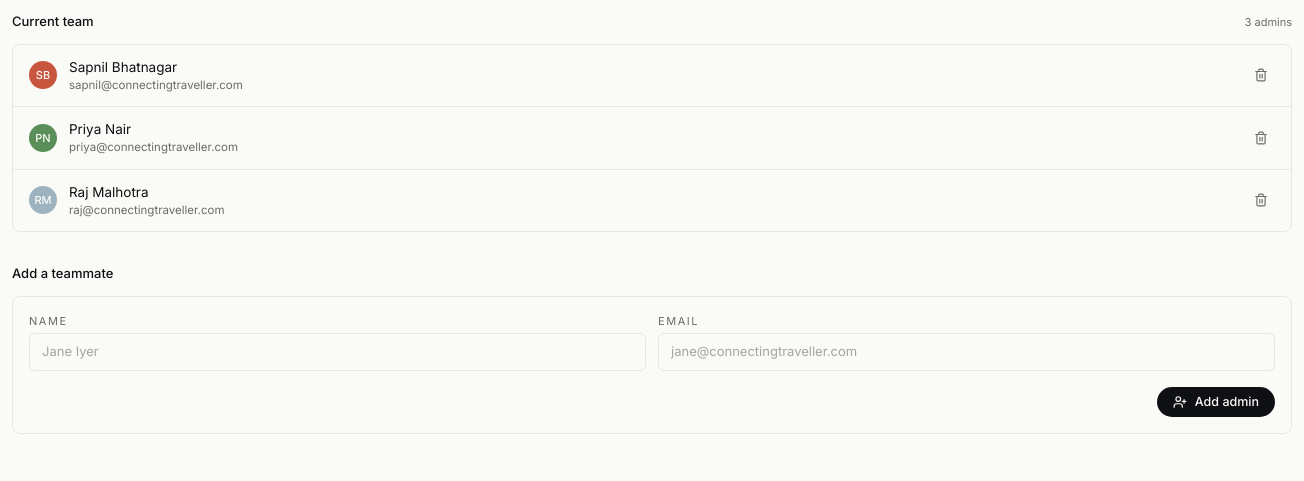
Test: AdminsPanel › validates the email field
Expected: the list item with test id "admin-row-admin_sapnil" is shown, [13,44,1291,107]
Type "Test User" into the field with test id "admin-input-name". click: (338, 352)
box: [29,333,646,370]
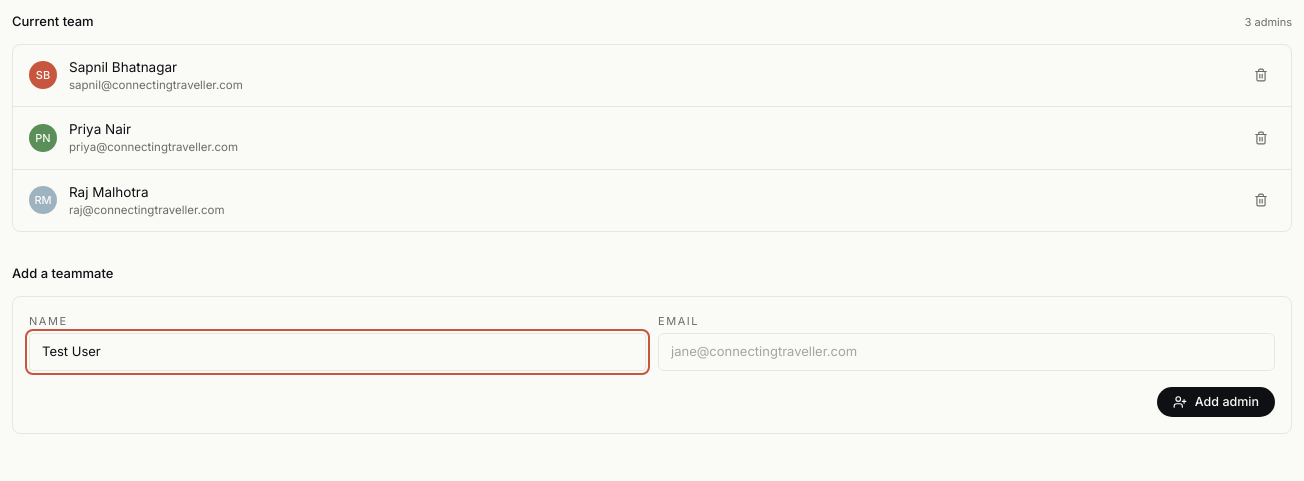
Type "not-an-email" into the field with test id "admin-input-email". click: (966, 352)
box: [658,333,1275,370]
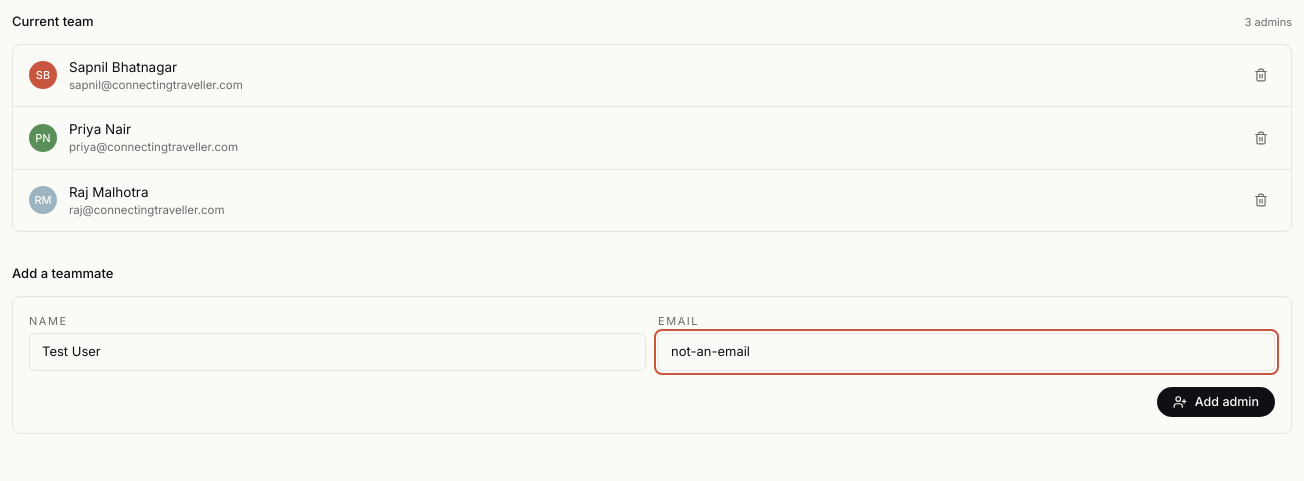
Click the button with test id "admin-submit". click: (1216, 402)
box: [1157,386,1275,417]
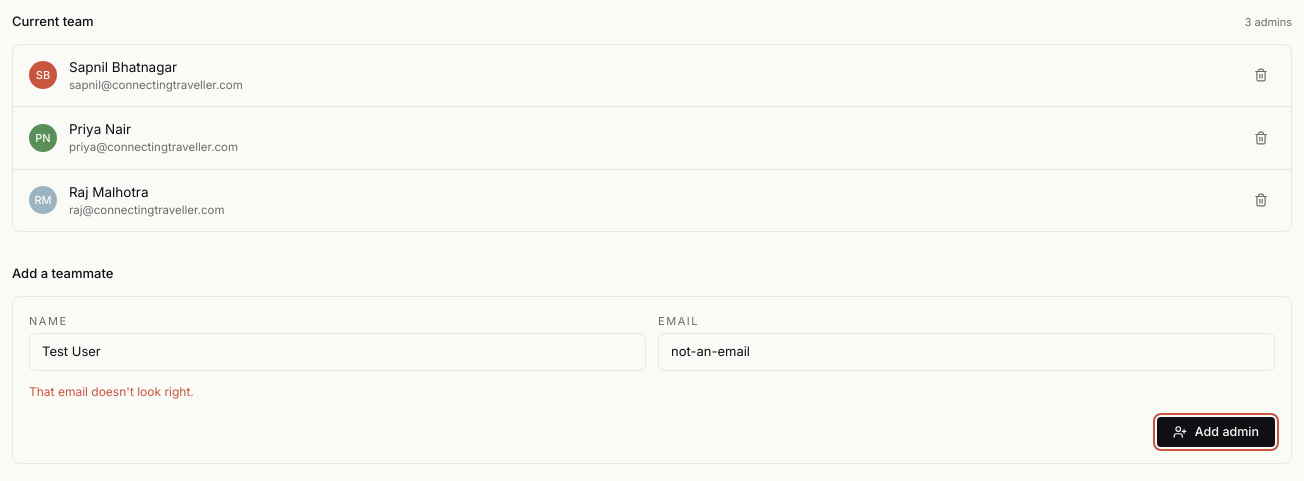
Expected: the text with test id "admin-error" shows "doesn't look right", [29,384,194,398]
